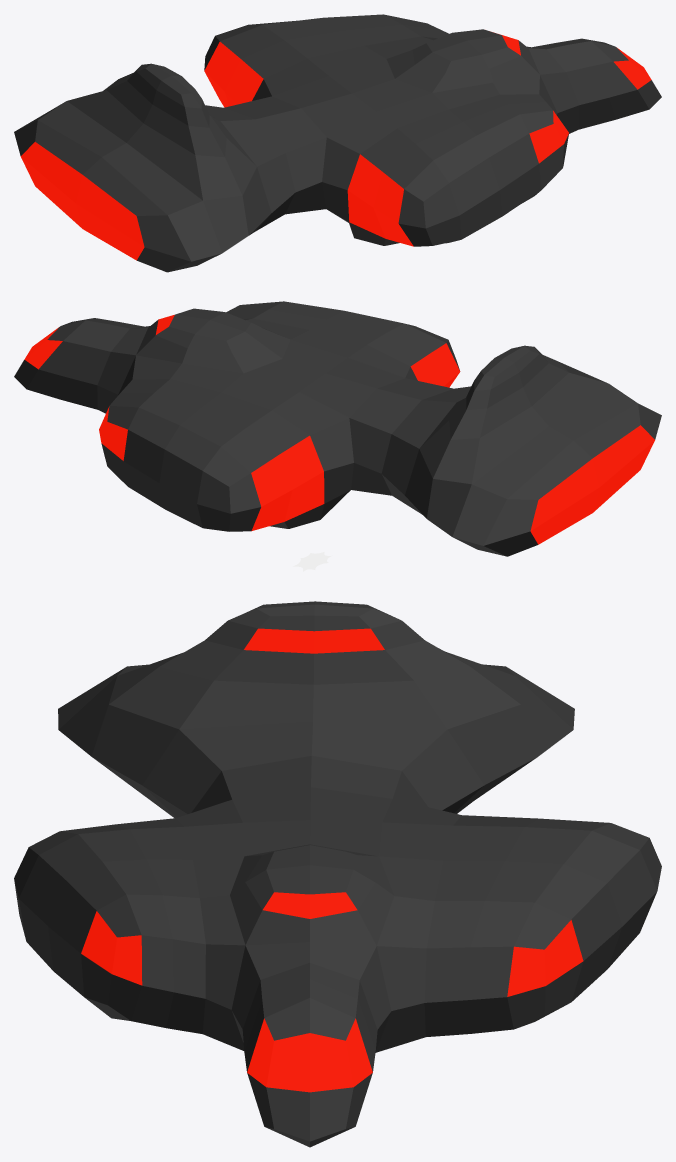
Rendered from ShipExploding.glb.
3 views of the same model, one above another, from view 1: azimuth 30°, elevation 25°; view 2: azimuth 150°, elevation 25°; view 3: azimuth 270°, elevation 25° (orthographic). The views are drawn at different scales.
Parts seen in each view (by area): view 1: Cube; view 2: Cube; view 3: Cube.
Boxes of the visible parts, x1,y1,x2,y2 form: Cube: (14, 14, 661, 272); Cube: (14, 301, 661, 556); Cube: (14, 601, 661, 1147).
Size of the model in its own units: 13.6 by 4.23 by 9.04.
